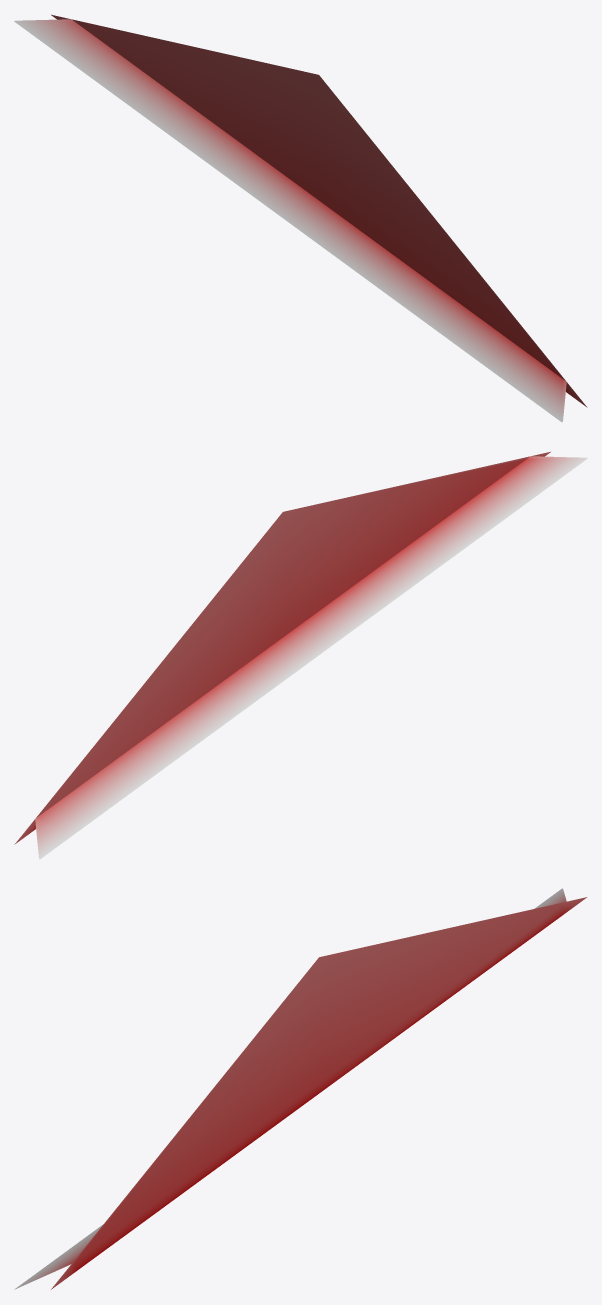
The model's file is wall_roof.fbx.
The picture shows the model from 3 angles, top to bottom: view 1: azimuth 30°, elevation 25°; view 2: azimuth 150°, elevation 25°; view 3: azimuth 330°, elevation 25°; orthographic projection.
Parts seen in each view (by area): view 1: transform16; view 2: transform16; view 3: transform16.
Boxes of the visible parts, x1,y1,x2,y2 form: transform16: (14, 14, 587, 422); transform16: (14, 451, 587, 859); transform16: (14, 888, 587, 1289).
Size of the model in its own units: 0.5904 by 2.53 by 18.
